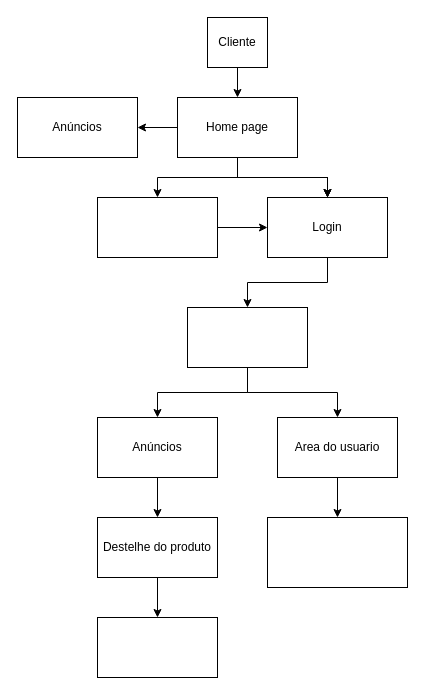
The diagram is 425 pixels wide and 695 high, and some of its shapes have lost their labels. The box of each missing label's shape, as (x1, y1, x2, y2) in pixels:
cadastro: (96, 196, 218, 258)
Compra: (96, 616, 218, 678)
Detalhes do usuario - nome, saldo e anuncios: (266, 516, 408, 588)
Home page (usuario logado): (186, 306, 308, 368)
